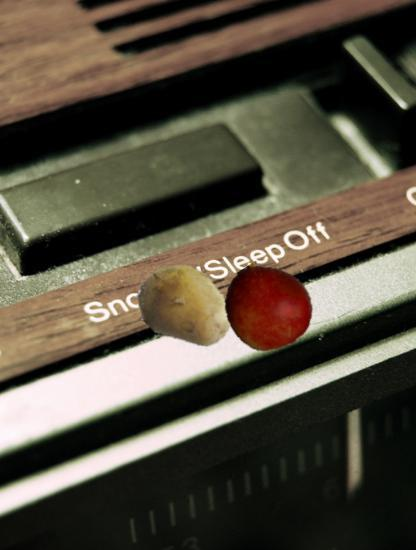Nectarine: (223, 262, 313, 352)
Potato: (131, 254, 236, 359)
